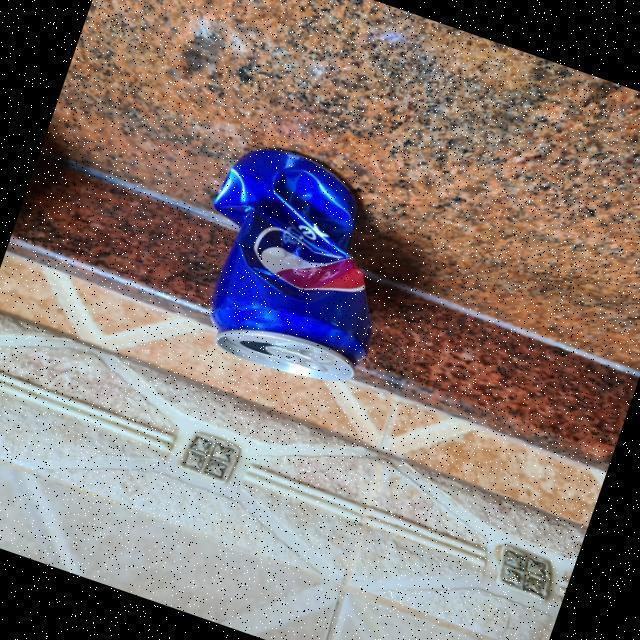Kaleng: (209, 146, 373, 382)
